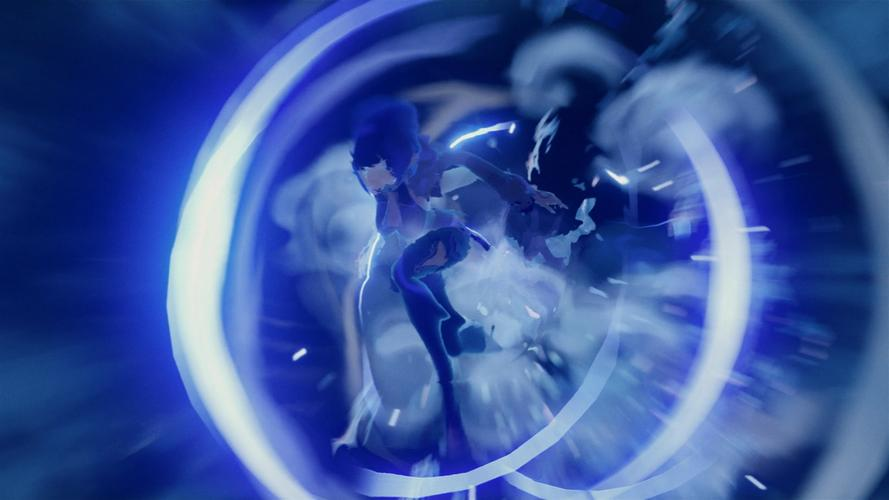夜兰: (344, 97, 580, 470)
